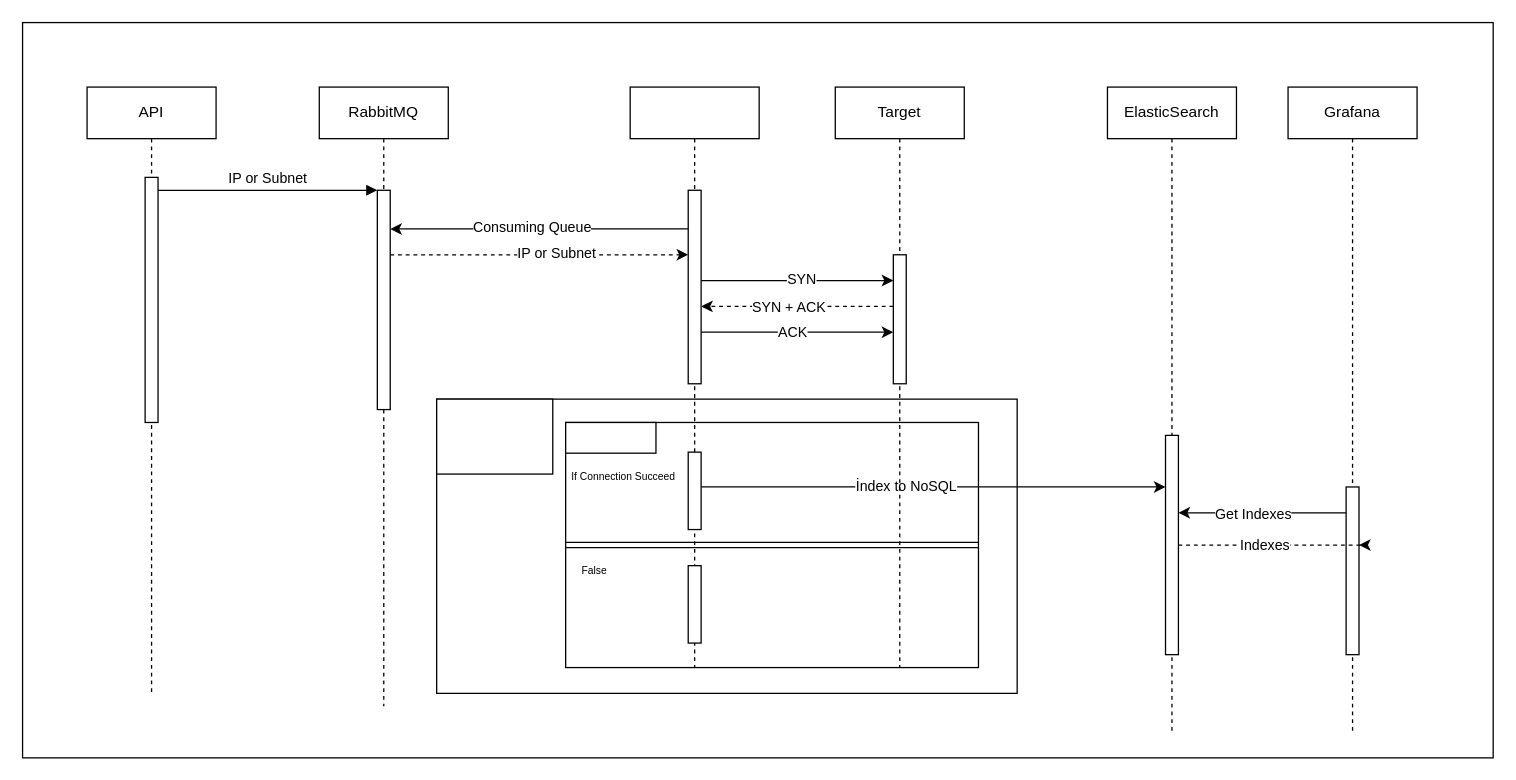
The diagram is 1516 pixels wide and 780 high, and some of its shapes have lost their labels. Here are the shapes that lost their labels. From the top down, the box of each, then its label:
(629, 86, 759, 668): Agent
(435, 398, 553, 474): While(n> 65535); n ++
(564, 421, 656, 453): ALT
